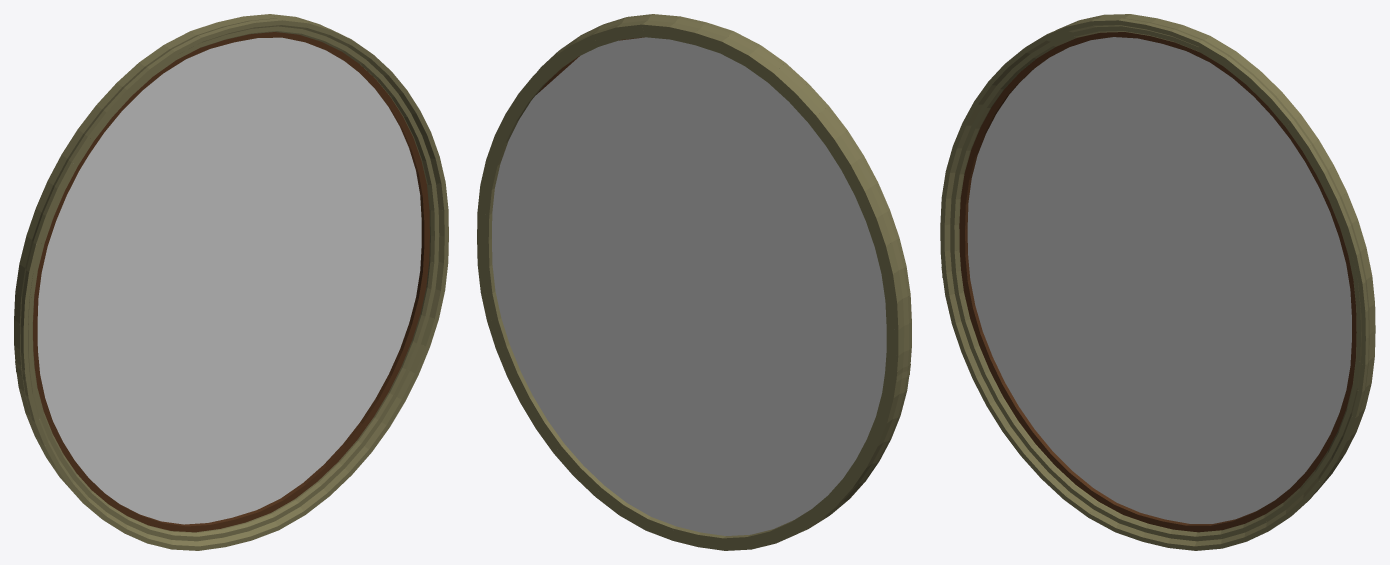
File: frame002.glb
The picture shows the model from 3 angles, left to right: view 1: azimuth 30°, elevation 25°; view 2: azimuth 150°, elevation 25°; view 3: azimuth 330°, elevation 25°; orthographic projection.
Parts seen in each view (by area): view 1: canvas_平面, frame_Cube.003, frame_inner_Cube.001; view 2: canvas_平面, frame_Cube.003; view 3: canvas_平面, frame_Cube.003, frame_inner_Cube.001.
Boxes of the visible parts, x1,y1,x2,y2 form: canvas_平面: (37,37,421,524); frame_Cube.003: (14,14,448,550); frame_inner_Cube.001: (33,32,429,532); canvas_平面: (492,37,886,535); frame_Cube.003: (477,14,911,550); canvas_平面: (967,37,1351,523); frame_Cube.003: (940,14,1375,550); frame_inner_Cube.001: (959,32,1356,532).
Bounding box in the file's own units: 27.85 × 32.39 × 1.32.
